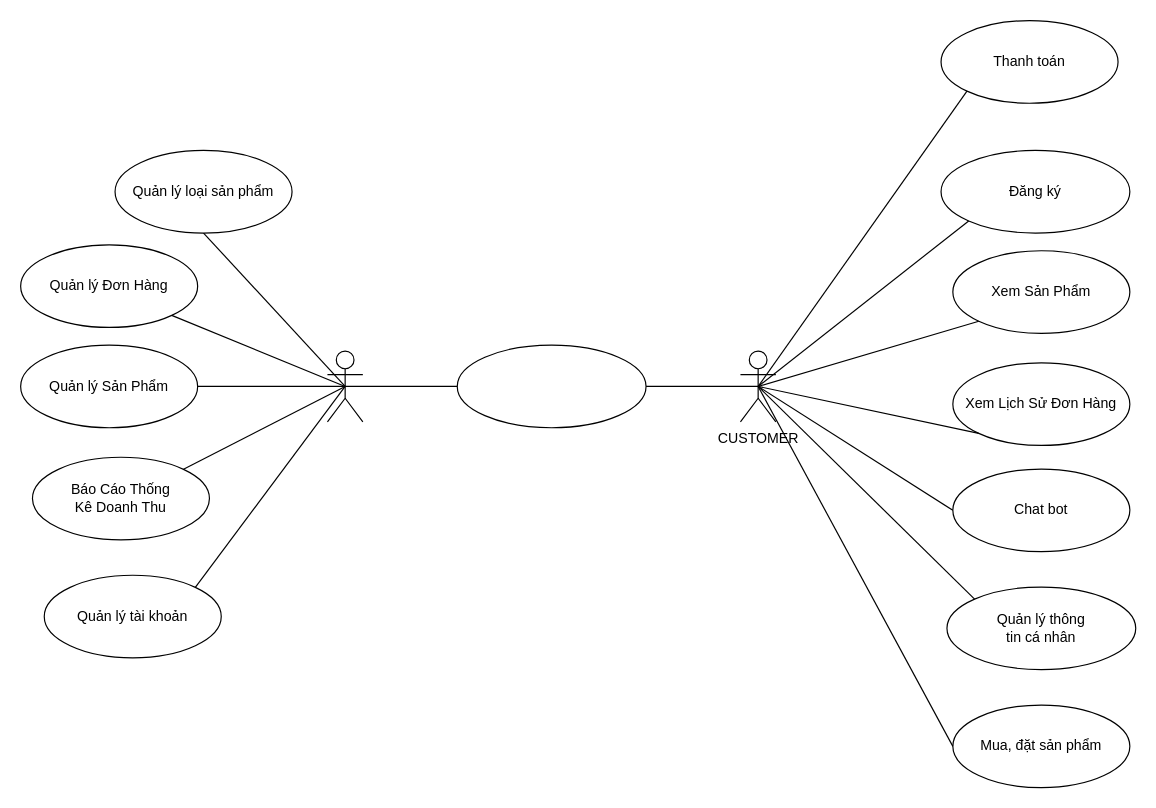
Image size: 1156x808. Some labels were removed from this diagram. Here are the shapes that lost their labels. From the top down, the box of each, then its label:
(326, 350, 363, 422): ADMIN
(456, 344, 646, 428): Đăng nhập
